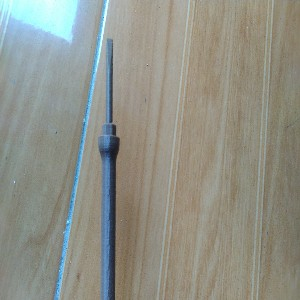obeng: (96, 38, 120, 300)
